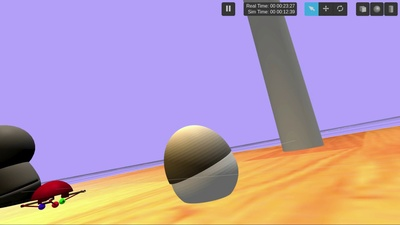mira_robot: (164, 125, 239, 204)
